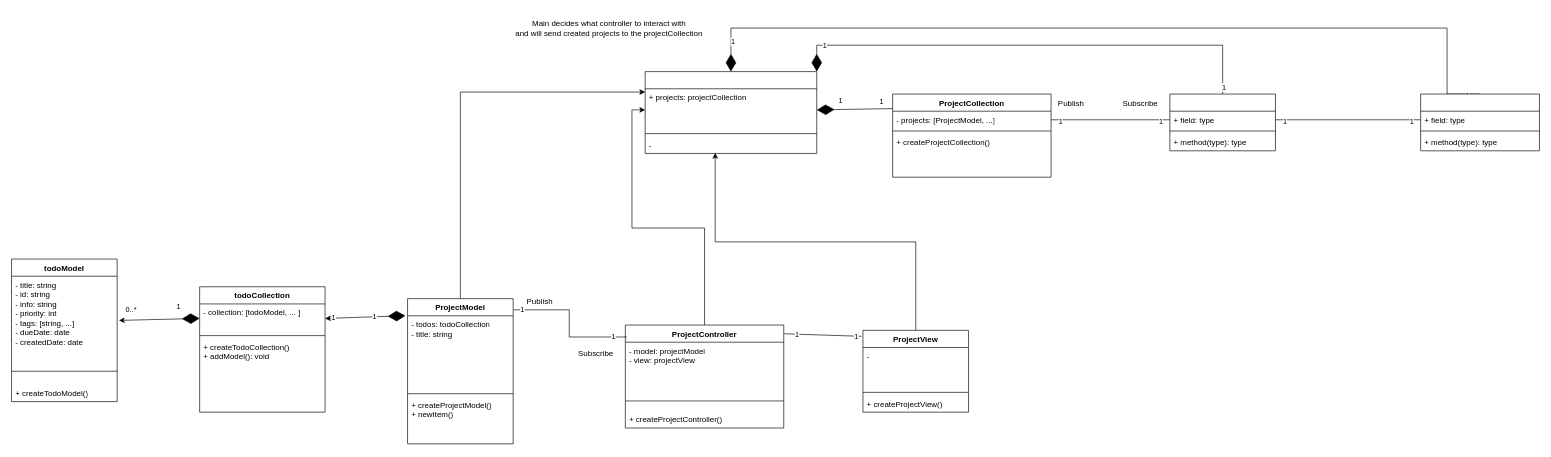
Some shapes in this 1551 by 457 pixel diagram are drawn without their labels. Each missing label, with the box of its shape:
main: (644, 71, 817, 153)
projectsController: (1169, 93, 1275, 151)
projectsView: (1420, 93, 1539, 151)
